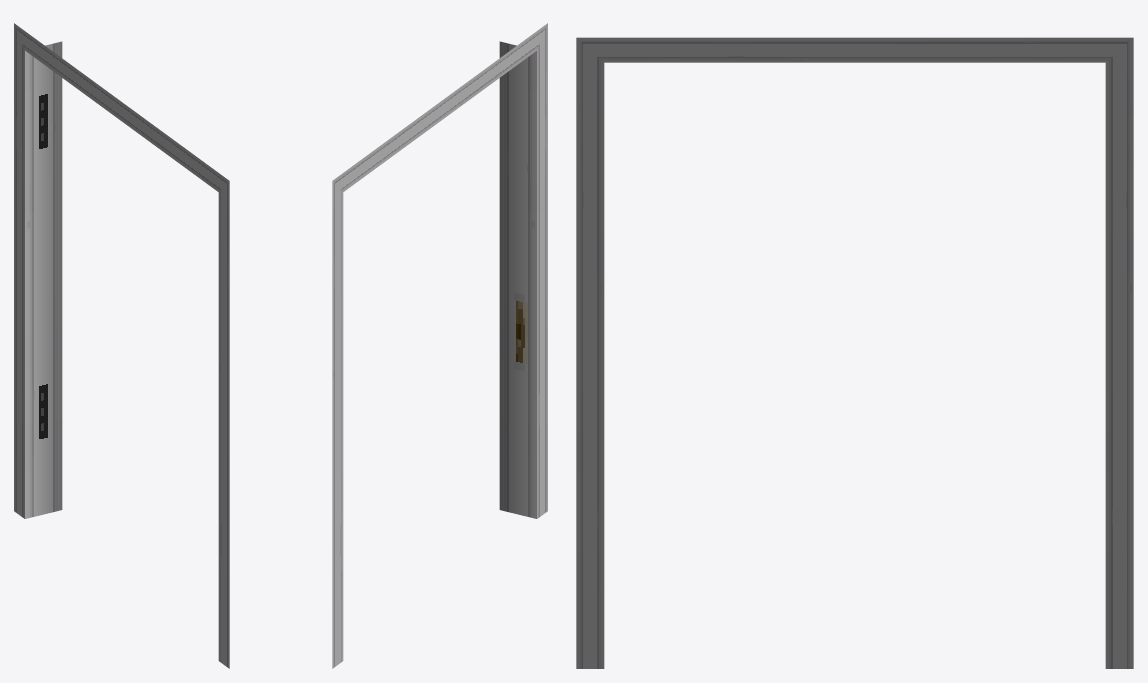
File: ControlTower_DoorFrame.glb
3 renders of one model, left to right at view 1: azimuth 30°, elevation 25°; view 2: azimuth 150°, elevation 25°; view 3: azimuth 270°, elevation 25°, orthographic. The views are drawn at different scales.
Visible parts, largest first — view 1: CONTROLTOWER_DOORFRAME; view 2: CONTROLTOWER_DOORFRAME; view 3: CONTROLTOWER_DOORFRAME.
Part boxes in pixels (x1,y1,x2,y2): CONTROLTOWER_DOORFRAME: (14,23,229,668); CONTROLTOWER_DOORFRAME: (332,23,547,668); CONTROLTOWER_DOORFRAME: (576,37,1133,668).
Size of the model in its own units: 0.2 by 2.5 by 2.
Materials: 3 (3 with a texture image).
